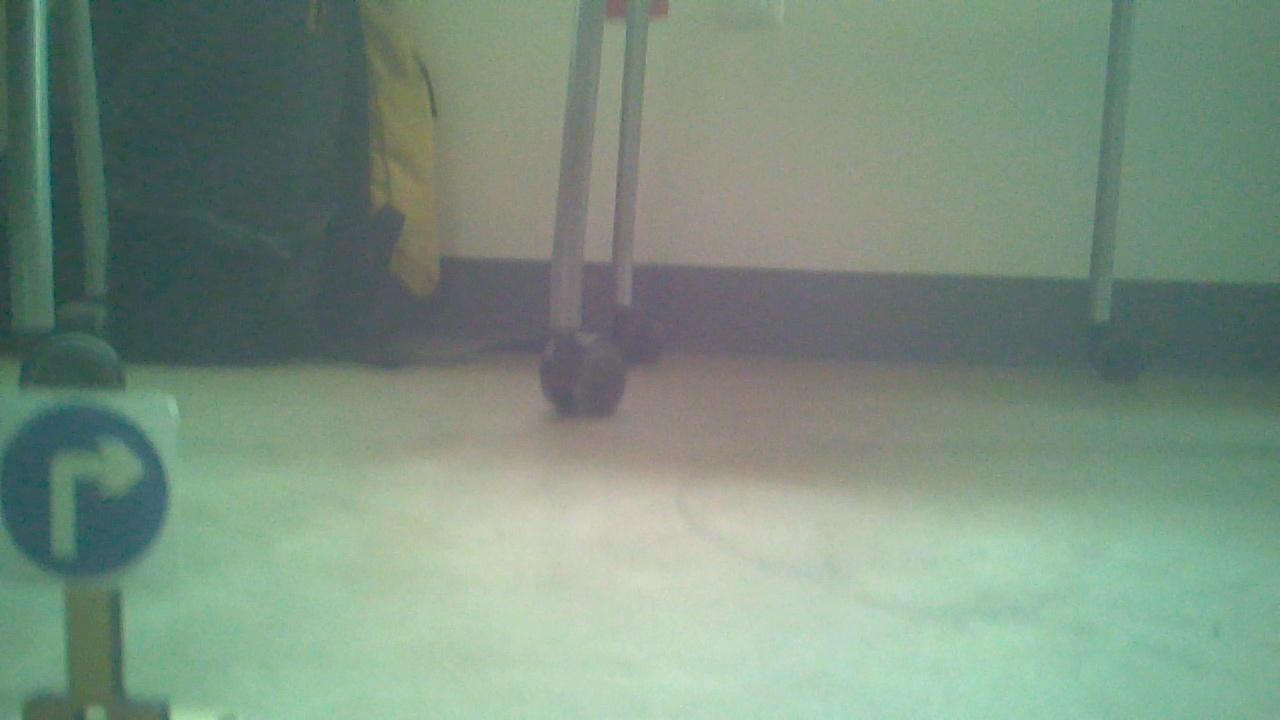turn: (0, 397, 173, 571)
